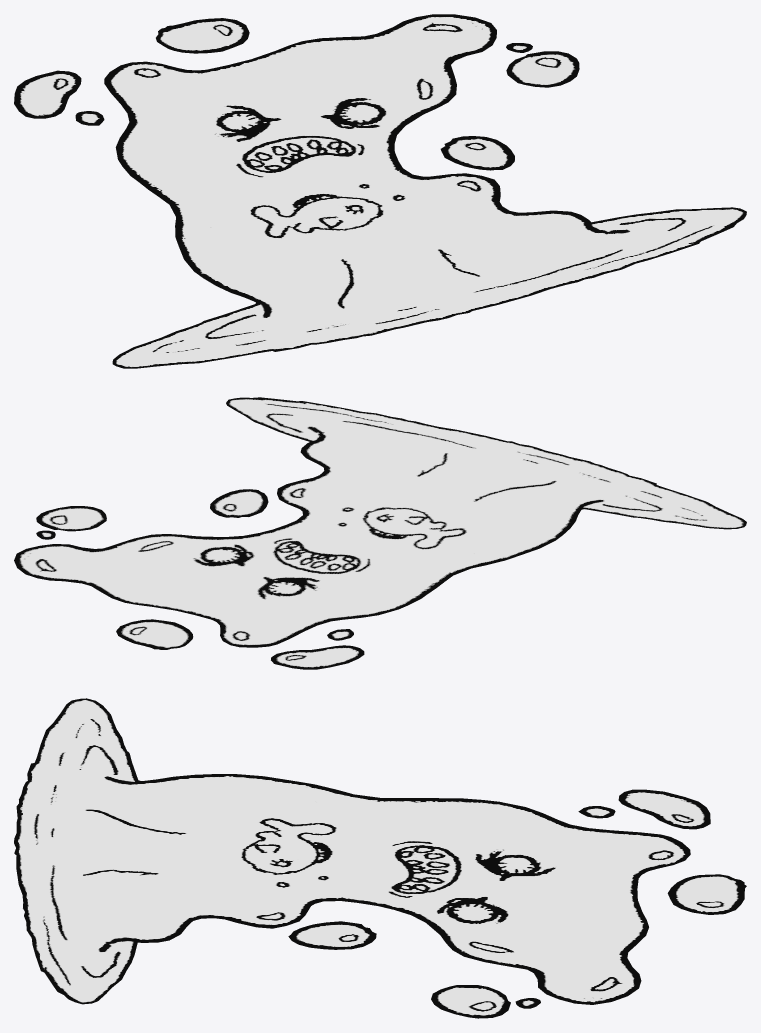
File: waterDemon.fbx
The picture shows the model from 3 angles, top to bottom: view 1: azimuth 30°, elevation 25°; view 2: azimuth 150°, elevation 25°; view 3: azimuth 270°, elevation 25°; orthographic projection. The views are drawn at different scales.
Visible parts, largest first — view 1: waterDemon; view 2: waterDemon; view 3: waterDemon.
Part boxes in pixels (x1,y1,x2,y2): waterDemon: [14, 14, 746, 368]; waterDemon: [14, 397, 746, 669]; waterDemon: [14, 698, 746, 1018].
Bounding box in the file's own units: 6.67 × 1.43e-15 × 6.46.
1 material, 1 textured.
